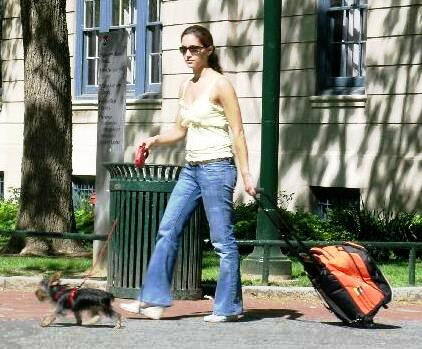person: (119, 23, 260, 320)
